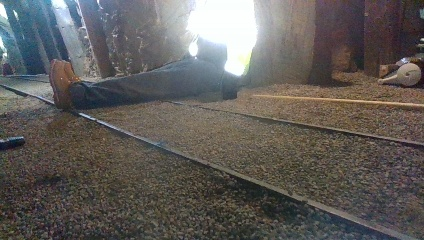backpack: (2, 62, 13, 76)
manikin: (46, 0, 262, 108)
